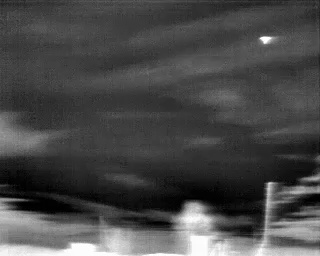BIRD: (256, 32, 280, 48)
